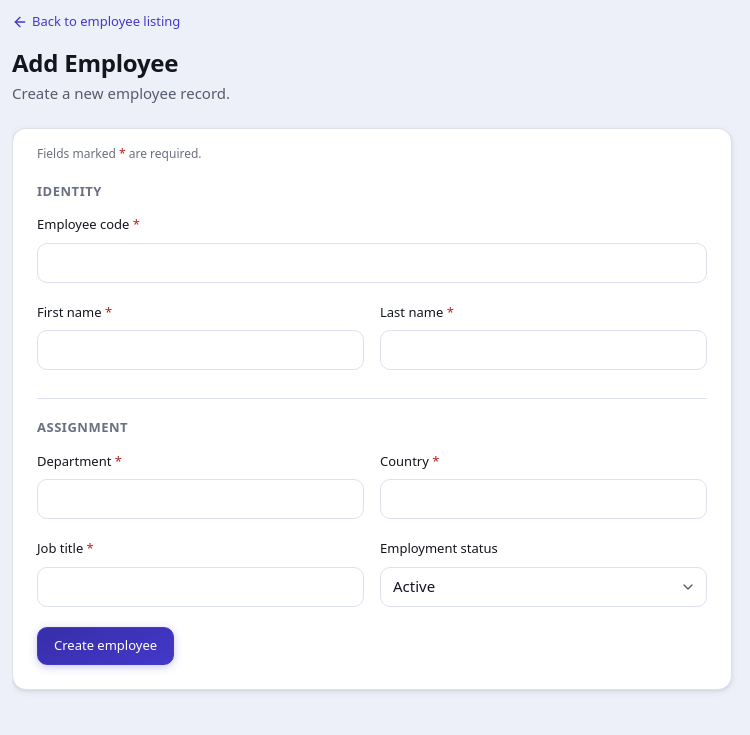
Test: EmployeeCreatePage › shows a backend validation error on the affected field
Step 1. Type "EMP-010" into the field labelled "Employee code *" → point(372, 263), box [37,243,707,283]
Step 2. Type "Grace" into the field labelled "First name *" → point(200, 350), box [37,330,364,370]
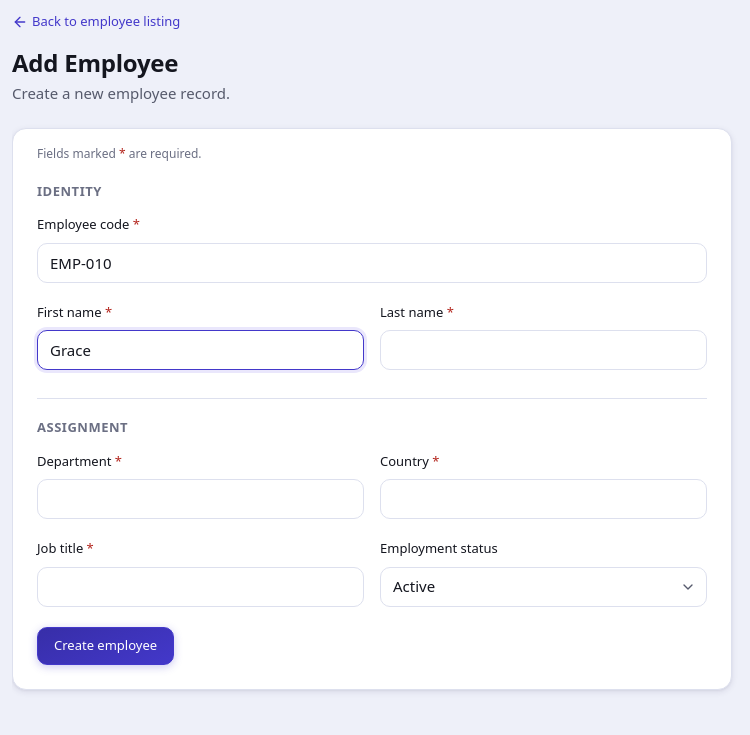
Step 3. Type "Hopper" into the field labelled "Last name *" → point(544, 350), box [380,330,707,370]
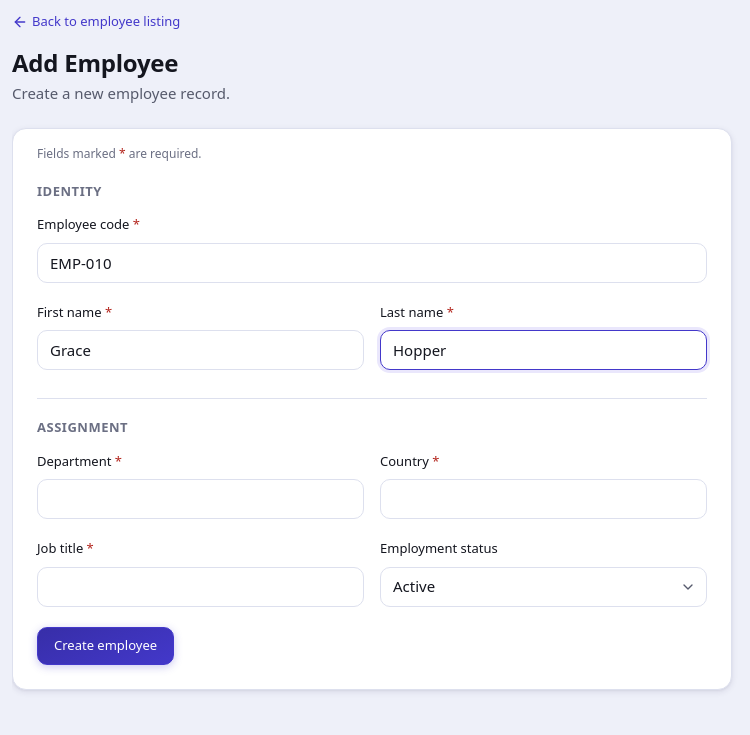
Step 4. Type "Research" into the field labelled "Department *" → point(200, 499), box [37,479,364,519]
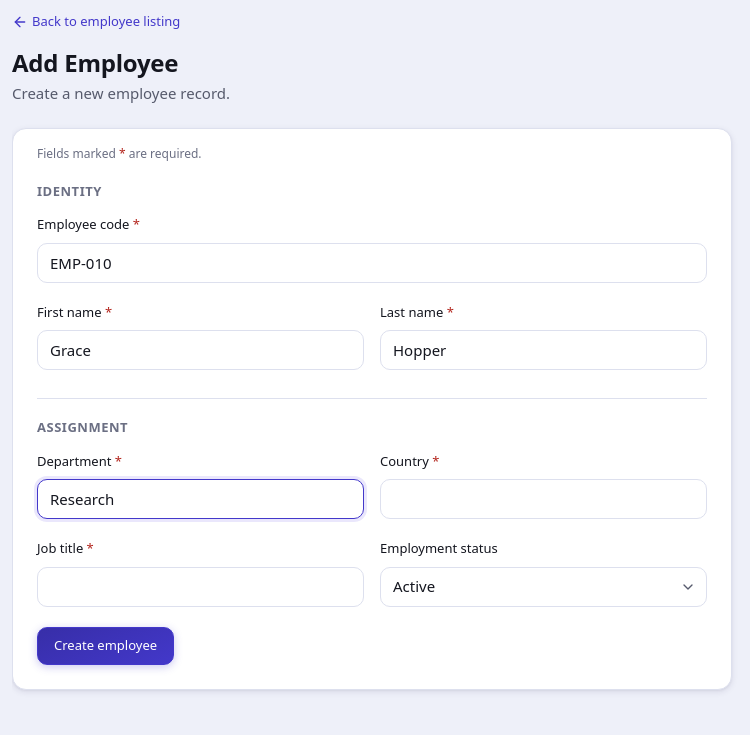
Step 5. Type "United States" into the field labelled "Country *" → point(544, 499), box [380,479,707,519]
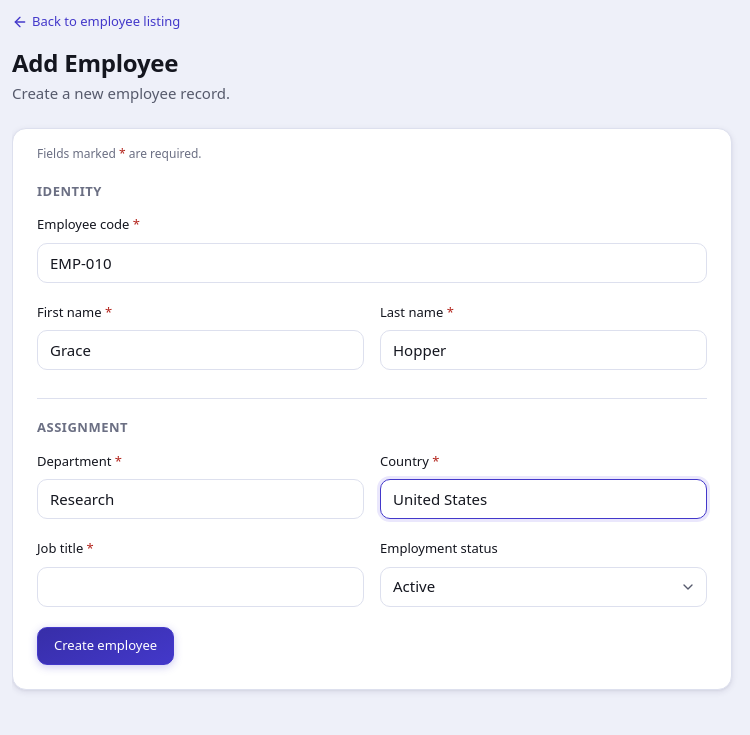
Step 6. Type "Rear Admiral" into the field labelled "Job title *" → point(200, 586), box [37,566,364,606]
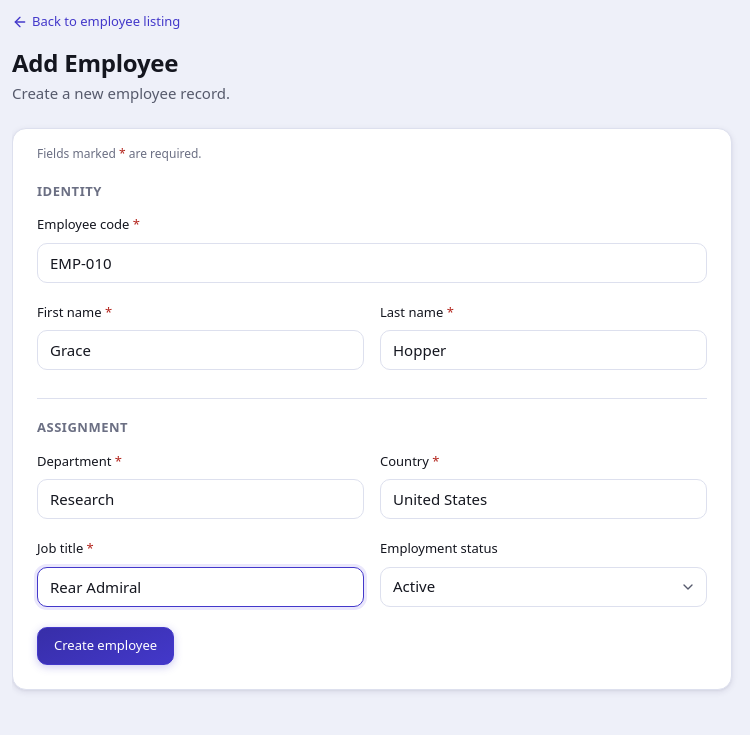
Step 7. Click the button "Create employee" → point(106, 646), box [37,626,174,664]
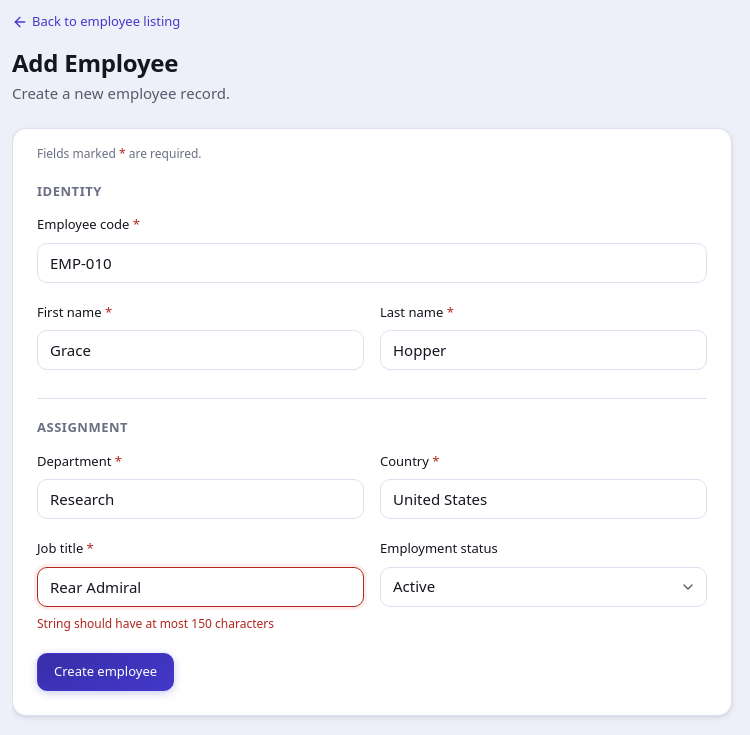
Check: the text "String should have at most 150 characters" is shown, box [37,614,274,632]
